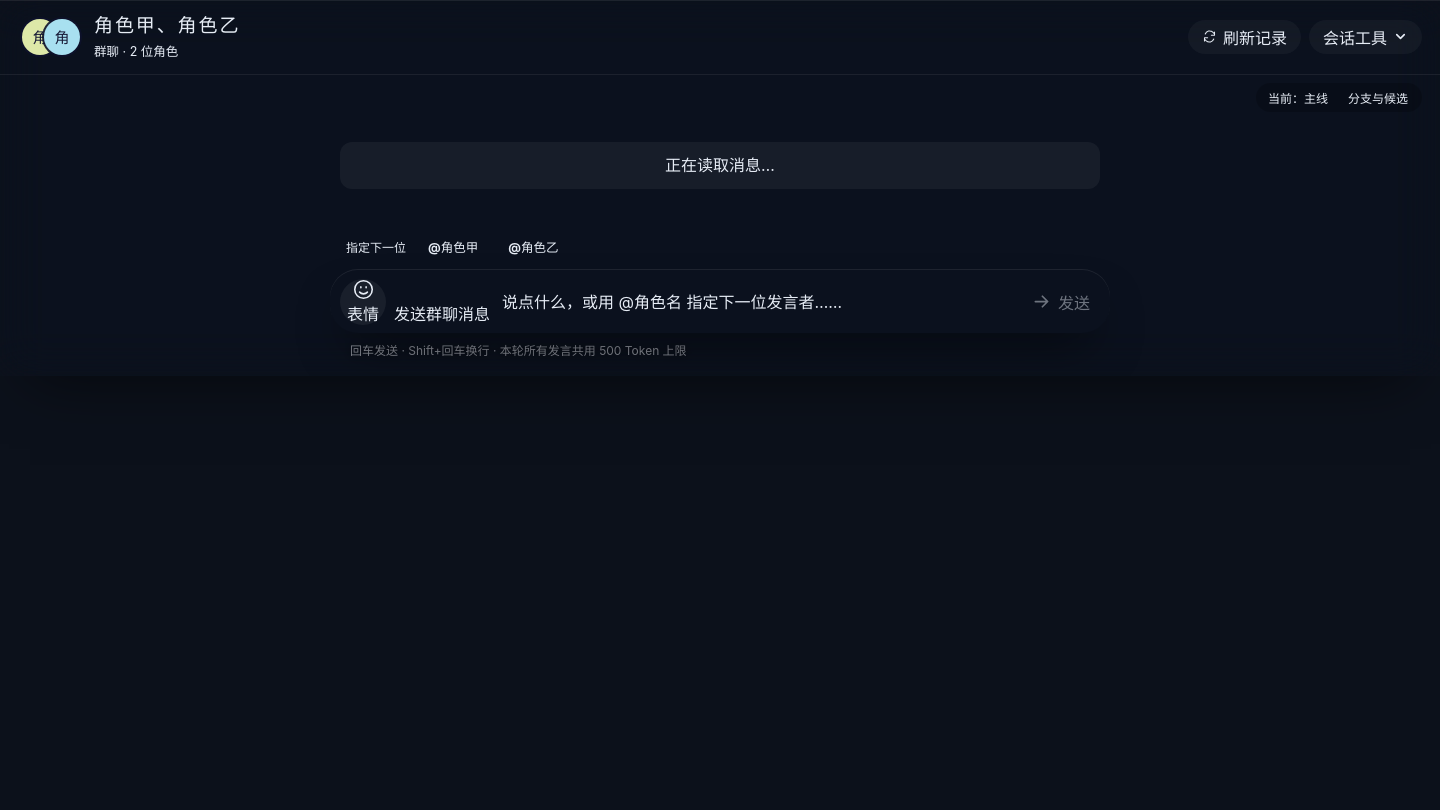
Test: sends one group turn and shows the committed character reply
Type "@角色乙 你好" into the text box labelled "发送群聊消息". click: {"x": 754, "y": 301}
box: [498,277,1011,325]
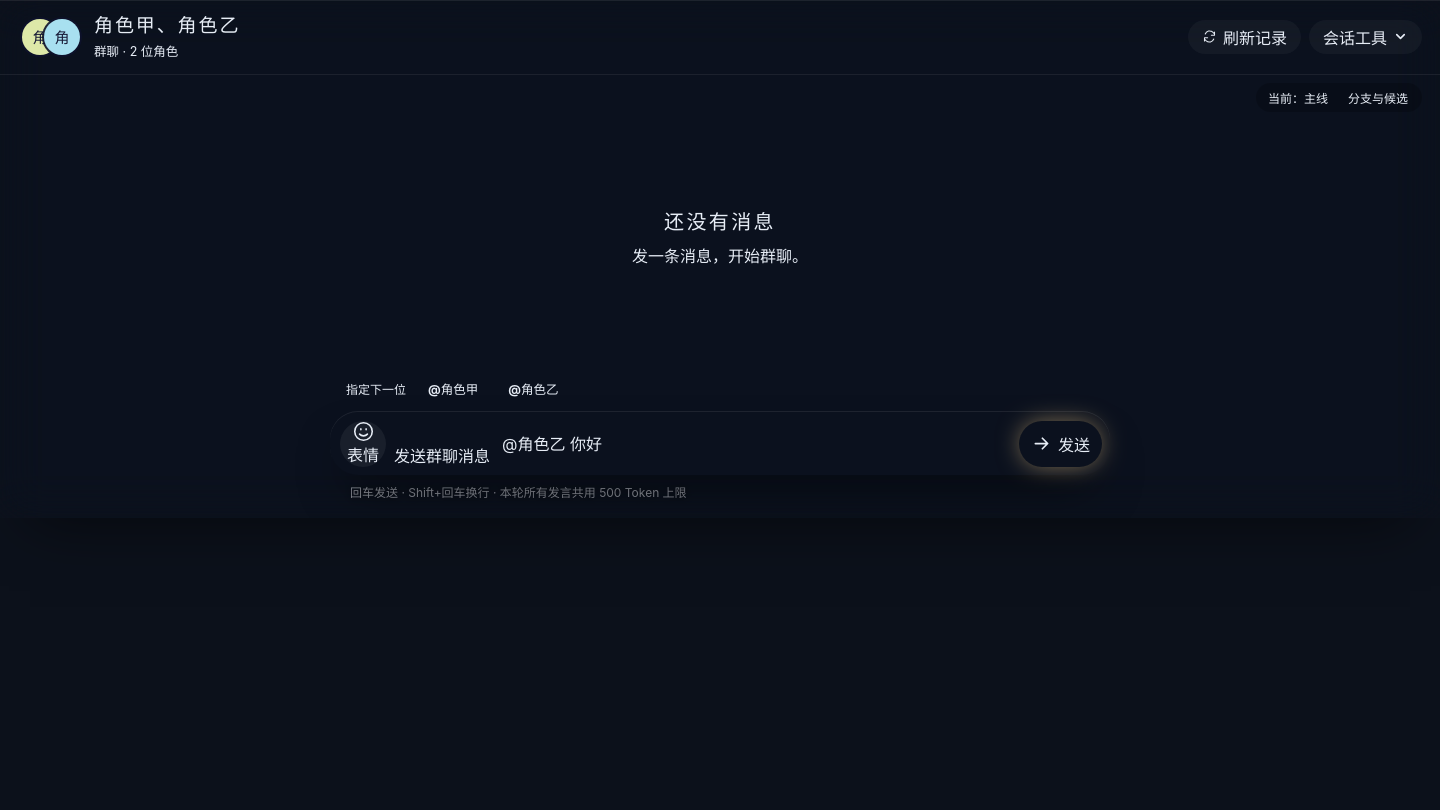
Press Enter in the text box labelled "发送群聊消息", box [498,419,1011,467]
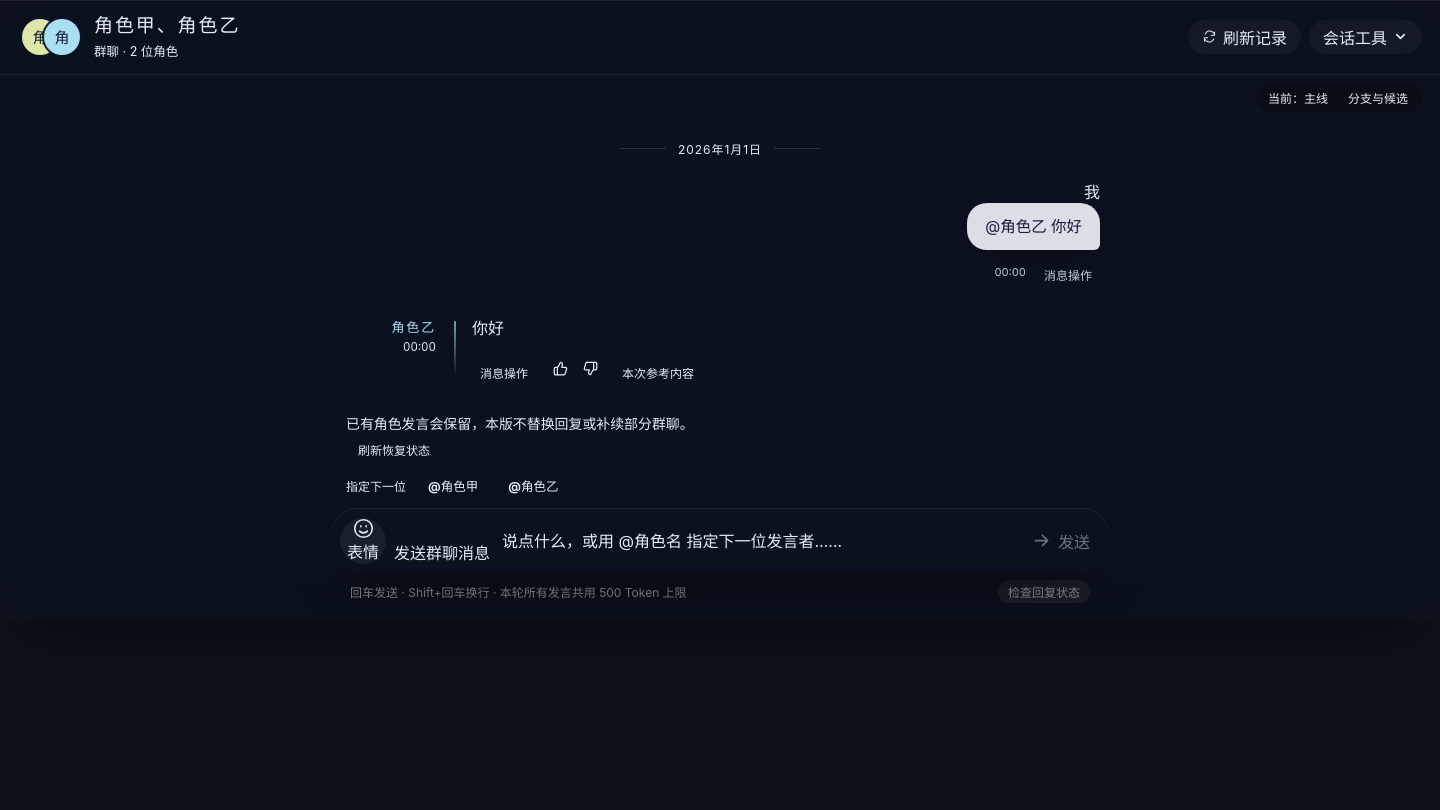
Expected: the text "你好" is shown, [472,318,504,338]
Expected: the text "角色乙" is shown, [392,317,436,336]
